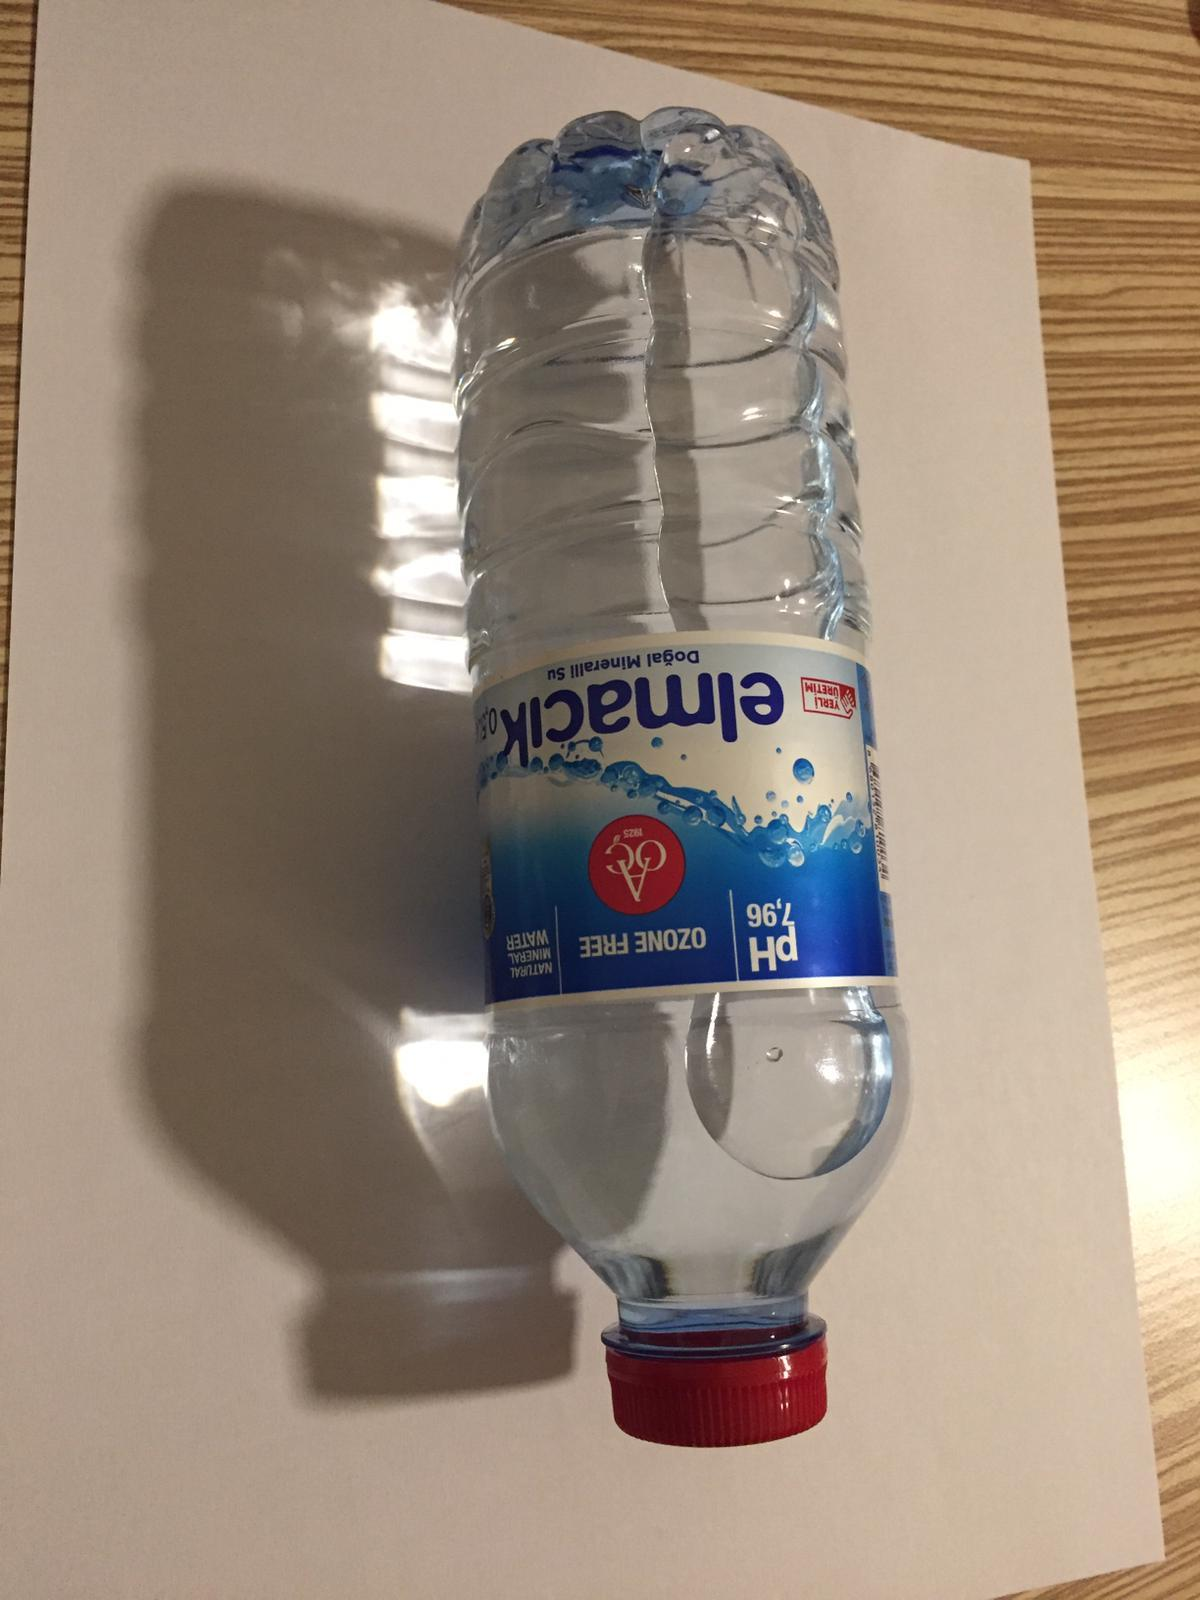bottle: (458, 107, 914, 1449)
